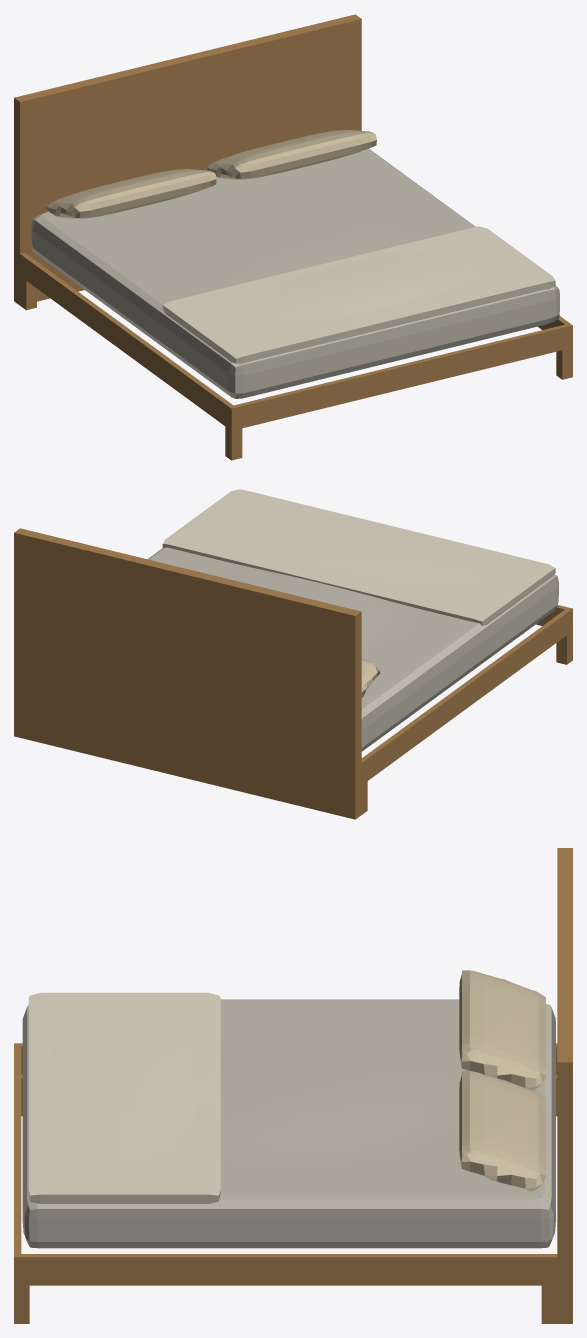
The model's file is HIN-BED-king.glb.
The picture shows the model from 3 angles, top to bottom: view 1: azimuth 30°, elevation 25°; view 2: azimuth 150°, elevation 25°; view 3: azimuth 270°, elevation 25°; orthographic projection. The views are drawn at different scales.
Parts seen in each view (by area): view 1: mattress:pbr, head:pbr, throw:pbr, foot:pbr, rail-l:pbr, pillow-l:pbr, pillow-r:pbr; view 2: head:pbr, throw:pbr, mattress:pbr, rail-l:pbr, pillow-l:pbr, leg-fl:pbr; view 3: mattress:pbr, throw:pbr, rail-r:pbr, pillow-r:pbr, pillow-l:pbr, head:pbr, foot:pbr, leg-hr:pbr, leg-fr:pbr.
Boxes of the visible parts, box(x1,y1,x2,y2) form: mattress:pbr: box(31, 148, 559, 398); head:pbr: box(14, 14, 361, 305); throw:pbr: box(162, 226, 555, 363); foot:pbr: box(234, 324, 567, 429); rail-l:pbr: box(20, 253, 236, 430); pillow-l:pbr: box(46, 169, 216, 218); pillow-r:pbr: box(207, 130, 376, 179); head:pbr: box(14, 528, 361, 819); throw:pbr: box(162, 489, 555, 625); mattress:pbr: box(148, 547, 558, 751); rail-l:pbr: box(361, 607, 572, 784); pillow-l:pbr: box(361, 658, 379, 697); leg-fl:pbr: box(556, 631, 572, 664); mattress:pbr: box(22, 999, 555, 1248); throw:pbr: box(28, 992, 220, 1203); rail-r:pbr: box(14, 1254, 557, 1285); pillow-r:pbr: box(459, 1071, 546, 1191); pillow-l:pbr: box(459, 970, 546, 1090); head:pbr: box(557, 848, 572, 1323); foot:pbr: box(14, 1046, 21, 1253); leg-hr:pbr: box(541, 1285, 557, 1323); leg-fr:pbr: box(14, 1285, 29, 1323).
Size of the model in its own units: 1.93 by 1.1 by 2.13.
